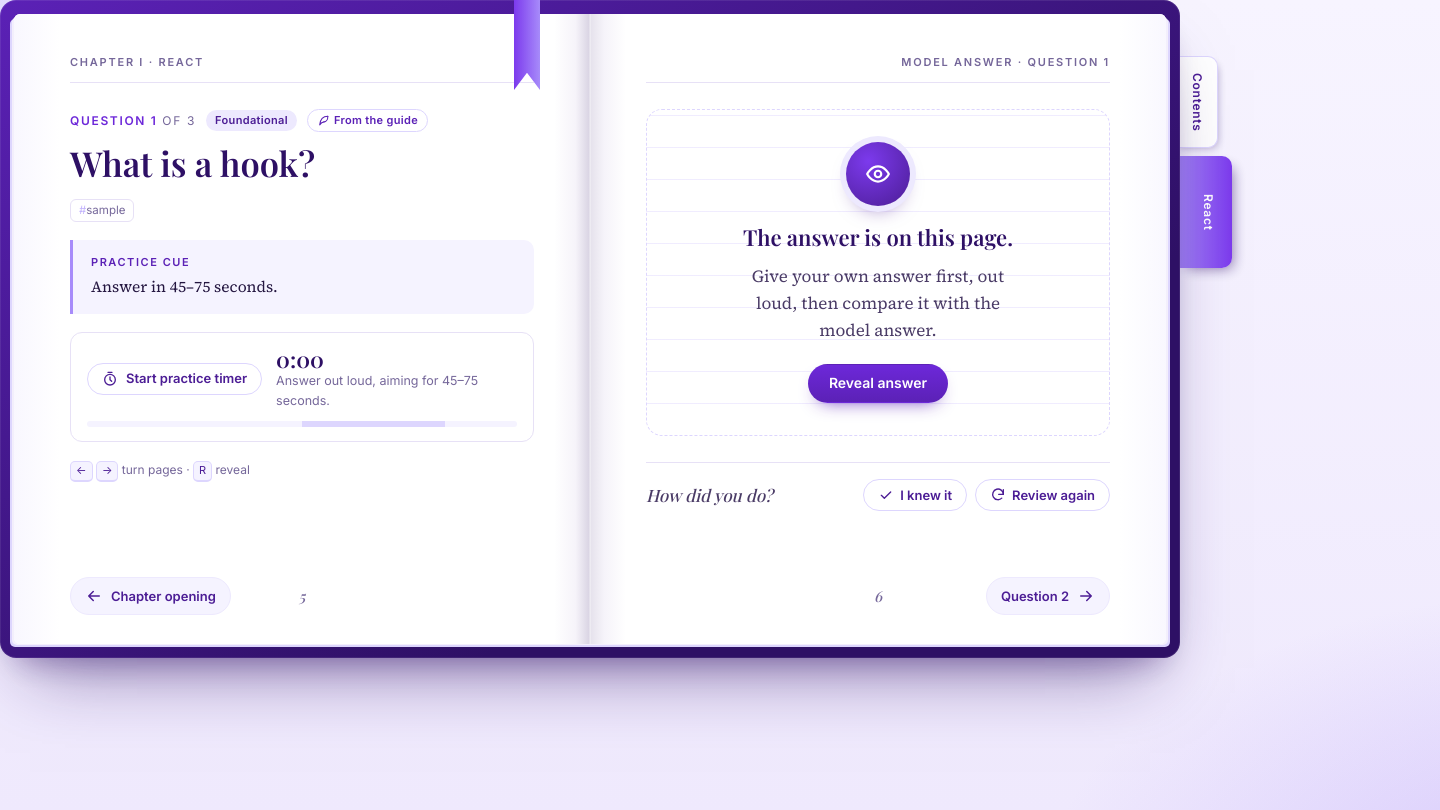
Test: QuestionPage › keeps the answer sealed until the reader reveals it
expect the heading "What is a hook?" is shown: met, box [70,140,315,186]
expect the text "Key points" is not shown: met
Click the button "Reveal answer" at (878, 384), box [808,364,948,403]
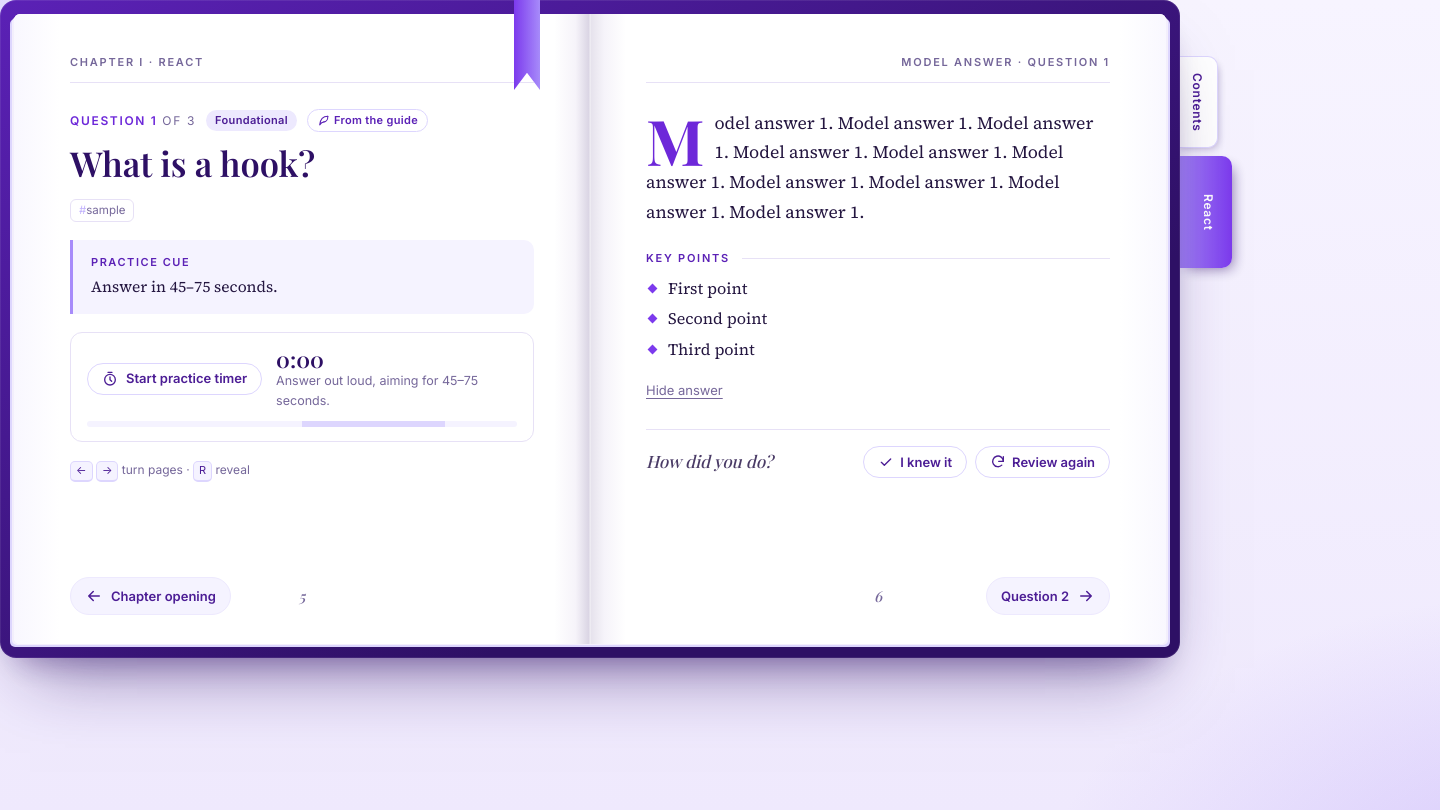
expect the heading "Key points" is shown: met, box [646,251,730,265]
expect the list item "First point" is shown: met, box [668,277,748,299]
